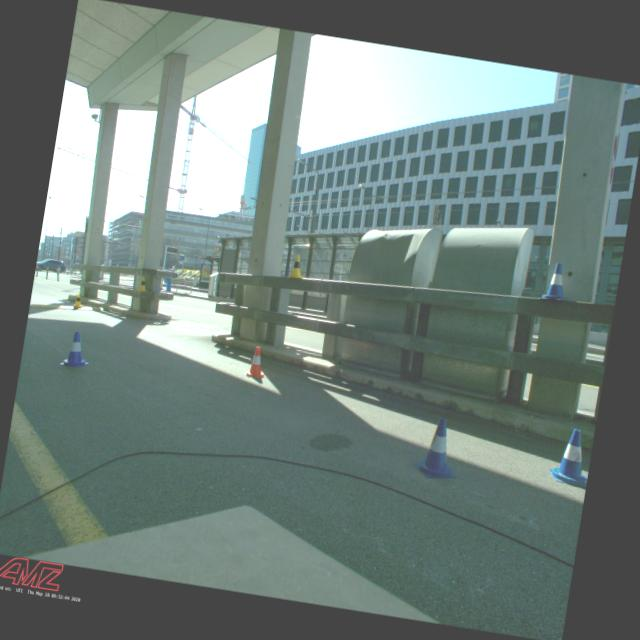blue_cone: (411, 414, 466, 484), (548, 425, 594, 487), (60, 330, 94, 370), (542, 261, 572, 302)
orange_cone: (243, 345, 271, 380)
yellow_cone: (288, 254, 306, 280), (72, 293, 84, 308), (138, 276, 148, 293)
